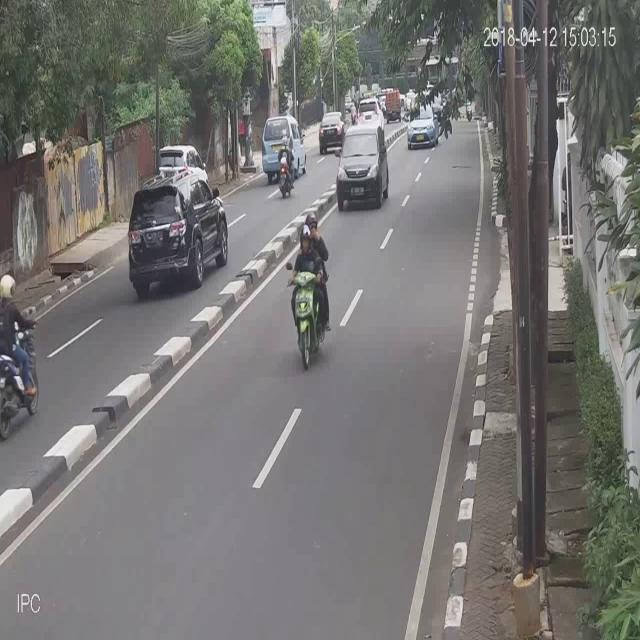bus: (0, 270, 41, 442), (287, 213, 330, 369), (275, 130, 295, 197)
motorcycle: (126, 175, 228, 305), (335, 124, 389, 210), (262, 111, 307, 181), (406, 102, 442, 150), (316, 108, 344, 156), (357, 95, 383, 129)
